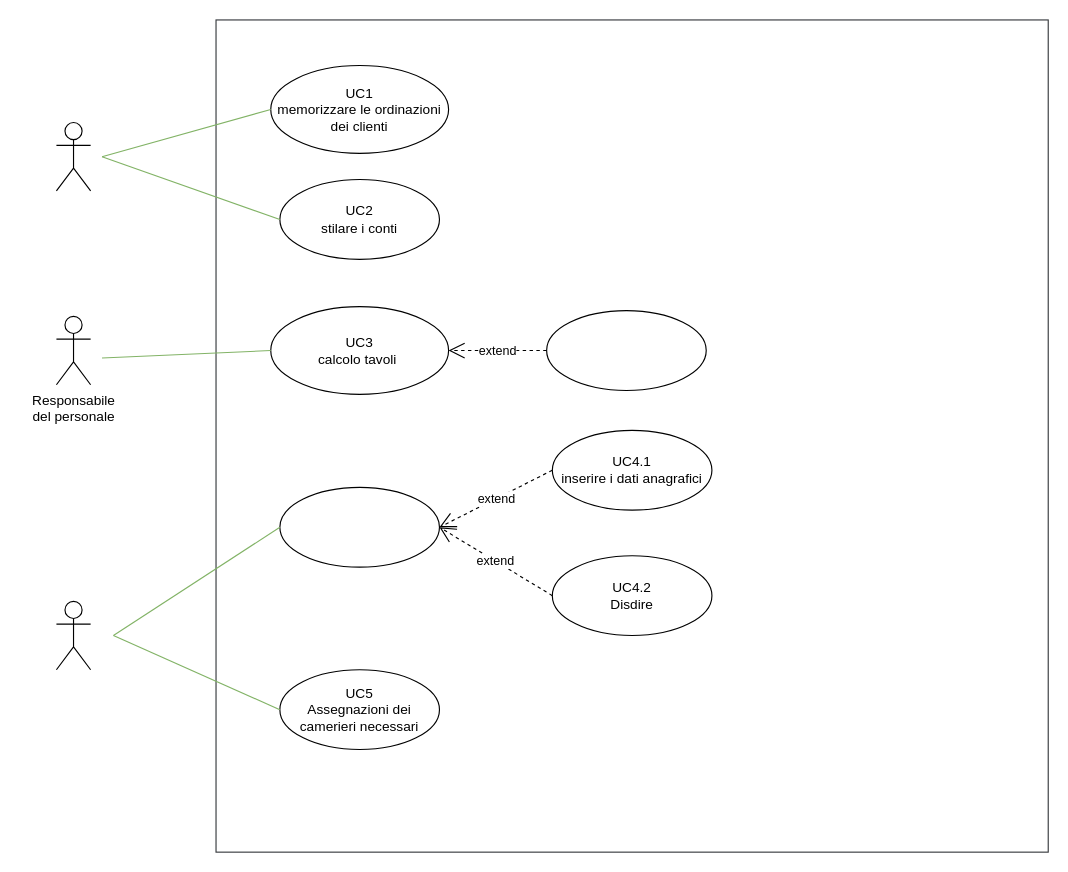
Some shapes in this 1068 by 872 pixel diagram are drawn without their labels. Each missing label, with the centre of its shape:
Camerieri: the point at 73,156
Responsbile delle prenotazioni: the point at 73,635
UC3.1 bilanciare il carico: the point at 625,350
UC4 prenotare i tavoli per i clienti: the point at 359,526
